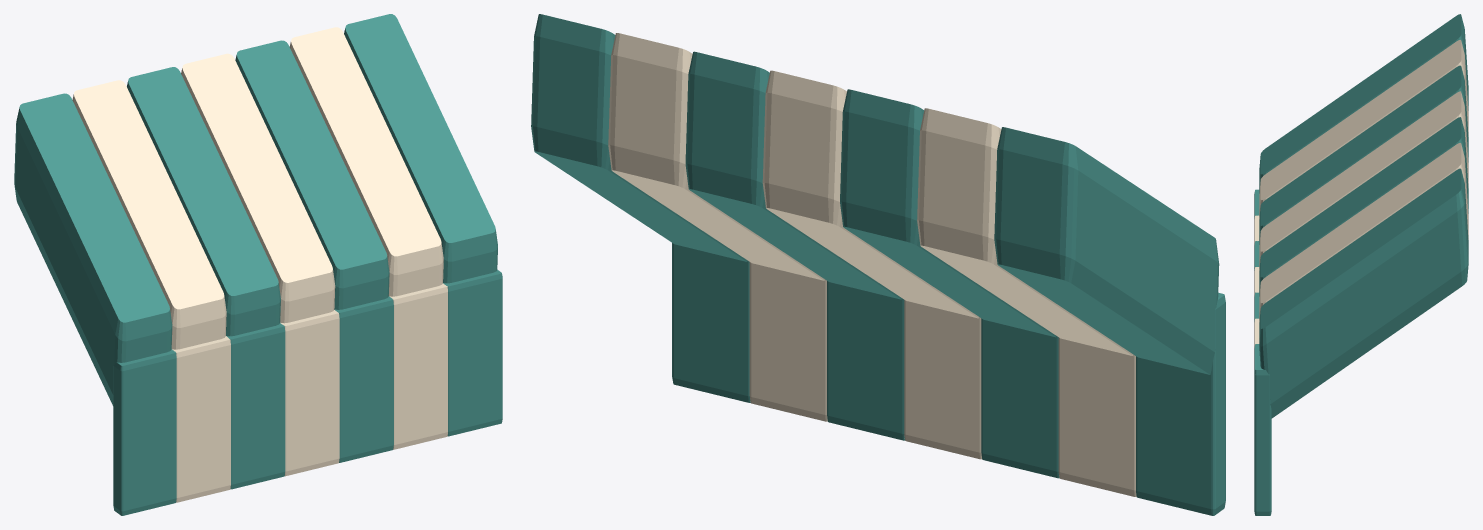
File: house_awning.glb
The picture shows the model from 3 angles, left to right: view 1: azimuth 30°, elevation 25°; view 2: azimuth 150°, elevation 25°; view 3: azimuth 270°, elevation 25°; orthographic projection. The views are drawn at different scales.
Parts seen in each view (by area): view 1: awning, model; view 2: awning, model; view 3: awning, model.
Part boxes in pixels (x1,y1,x2,y2): awning: (14,14,497,405); model: (113,269,502,515); awning: (531,14,1219,374); model: (672,243,1225,515); awning: (1259,14,1468,418); model: (1254,189,1271,515).
Bounding box in the file's own units: 1.8 × 1.5 × 0.9.
